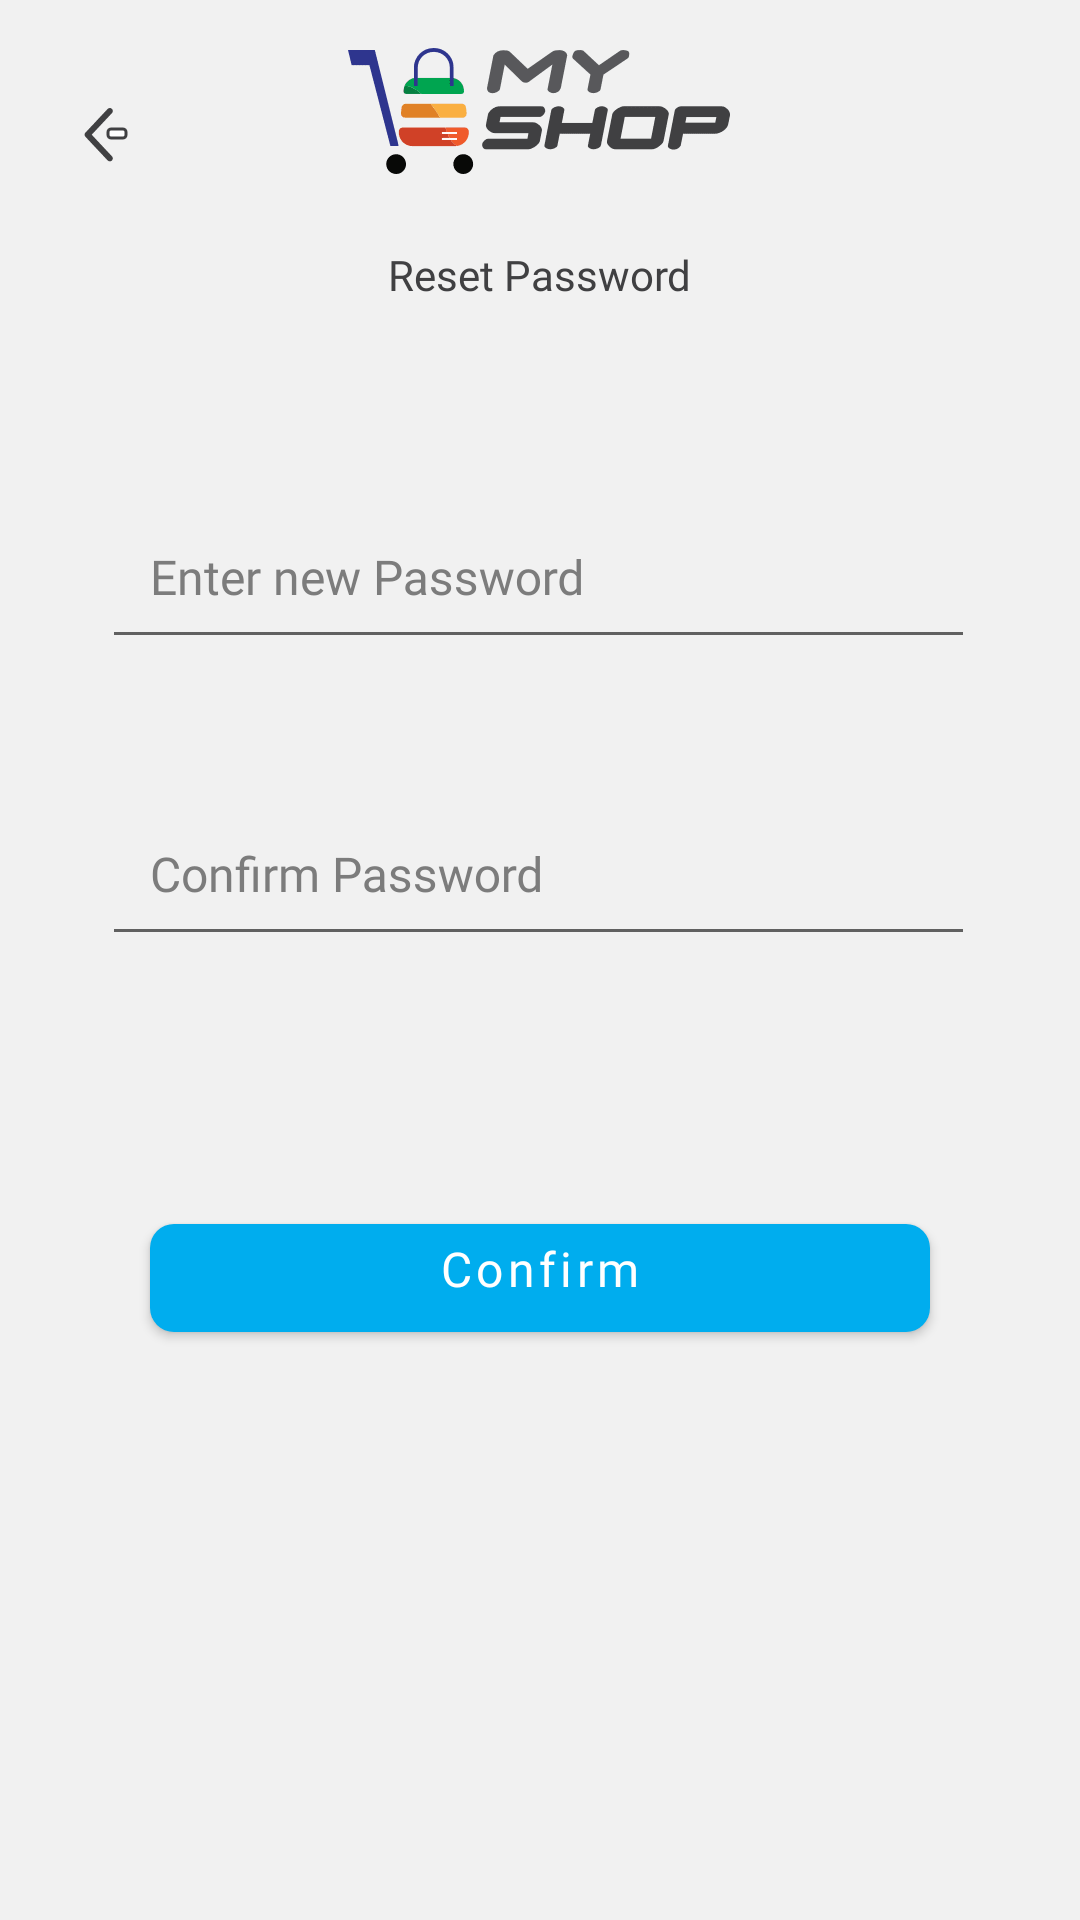

Point at icon controls on the screen. Image size 1080w x 1920h, points as (x=x, y=y).
back arrow: (x=106, y=135)
